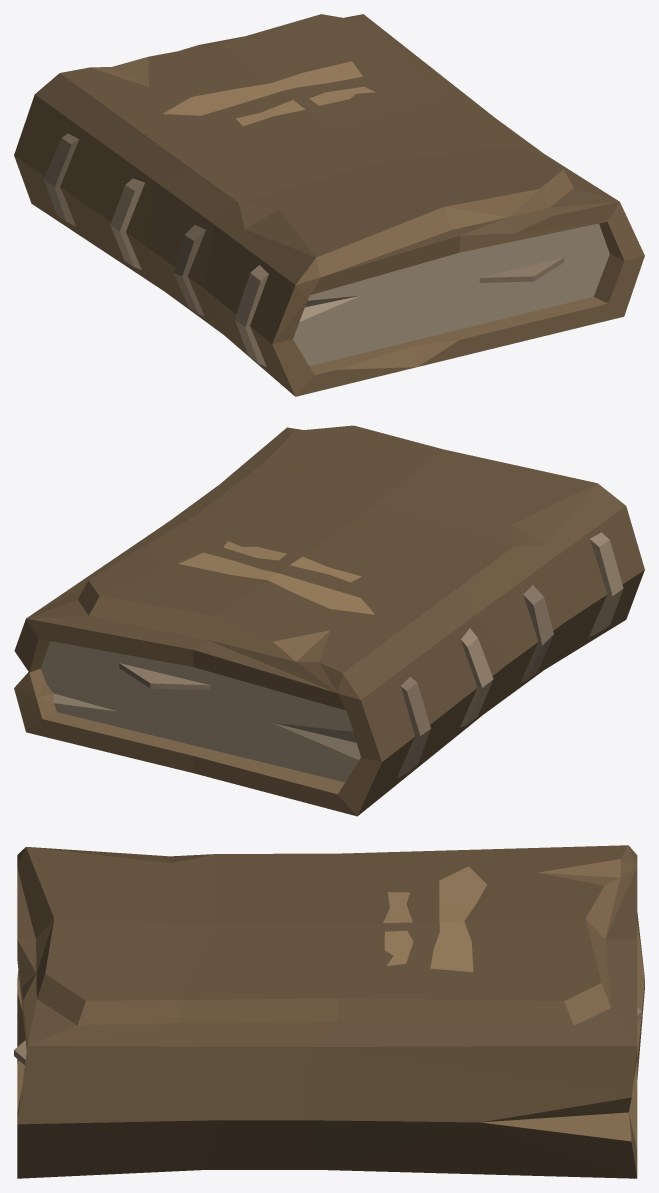
Rendered from SM_Prop_Book_04.fbx.
The picture shows the model from 3 angles, top to bottom: view 1: azimuth 30°, elevation 25°; view 2: azimuth 150°, elevation 25°; view 3: azimuth 270°, elevation 25°; orthographic projection. The views are drawn at different scales.
Parts seen in each view (by area): view 1: SM_Prop_Book_04; view 2: SM_Prop_Book_04; view 3: SM_Prop_Book_04.
Part boxes in pixels (<box>): SM_Prop_Book_04: <box>14,14,644,396</box>; SM_Prop_Book_04: <box>14,425,644,816</box>; SM_Prop_Book_04: <box>14,845,644,1178</box>.
Size of the model in its own units: 28.71 by 10.16 by 35.26.
